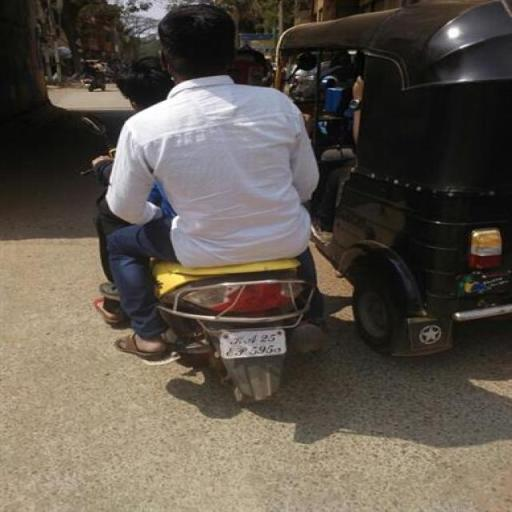tripple riding: (72, 1, 336, 262)
